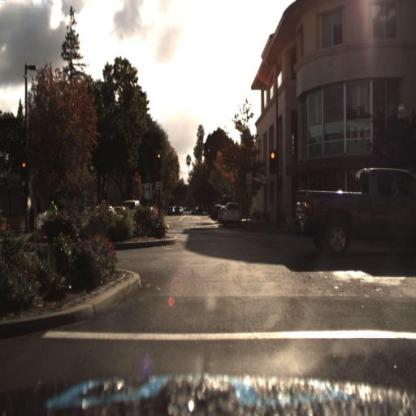biker: (45, 198, 62, 219), (48, 199, 58, 230)
car: (224, 201, 242, 228), (225, 201, 241, 229), (175, 206, 184, 218)
trafficLight: (21, 157, 29, 176)
trafficLight-Red: (269, 145, 278, 171), (155, 151, 163, 177), (156, 145, 163, 166)
truck: (294, 168, 416, 258)
